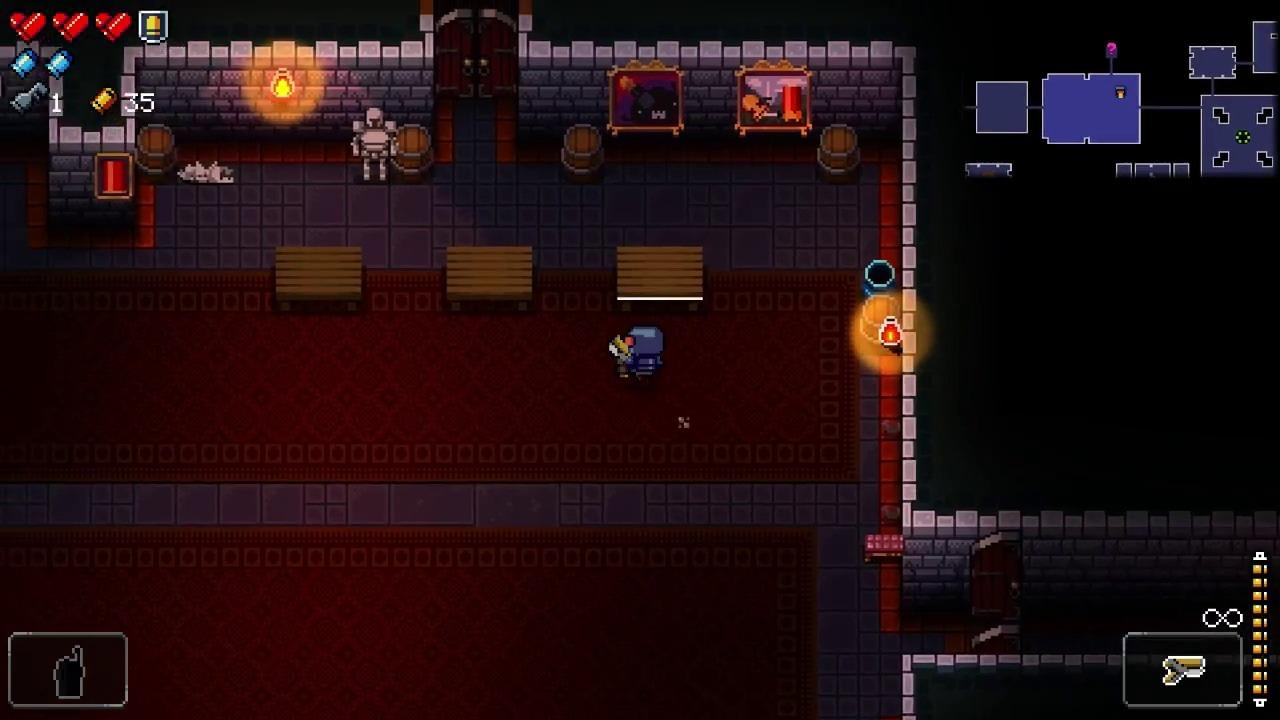player: (624, 326, 664, 380)
table: (274, 244, 361, 312), (616, 245, 703, 312), (447, 247, 533, 310)
unlocked_door: (434, 10, 518, 98), (971, 530, 1022, 656)
